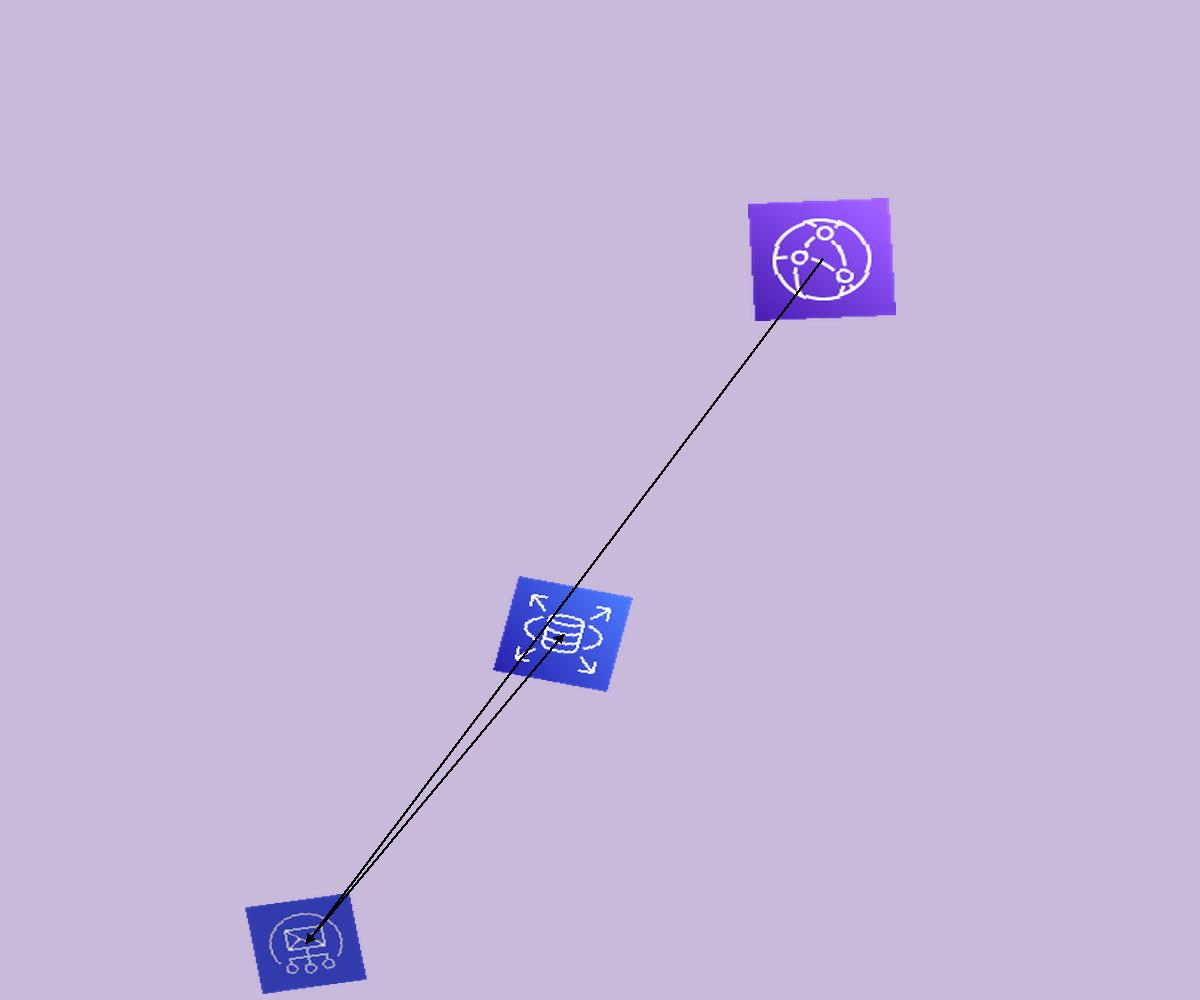AWS-CloudFront: (748, 198, 896, 321)
AWS-RDS: (493, 576, 633, 692)
AWS-Simple-Email-Service: (244, 892, 368, 995)
